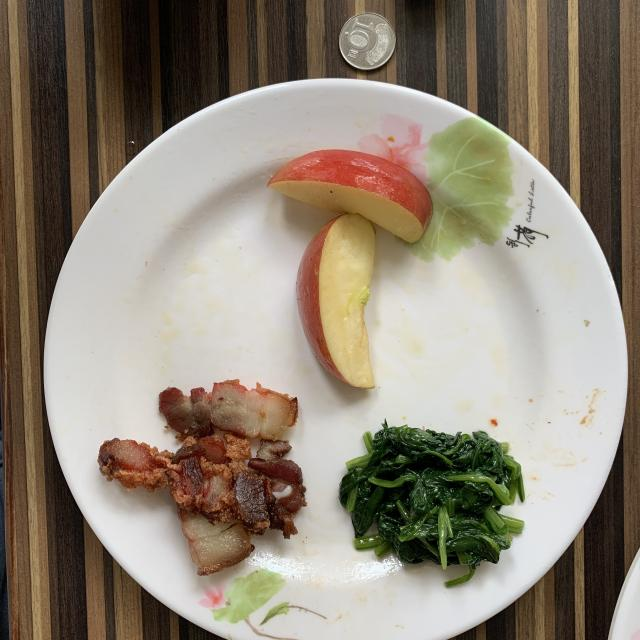apple -sliced-: (268, 150, 432, 389)
coin: (339, 12, 395, 70)
mustard greens: (340, 422, 524, 584)
red grilled pork: (98, 380, 306, 575)
